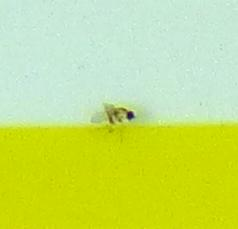Brachycera: (100, 100, 138, 129)
